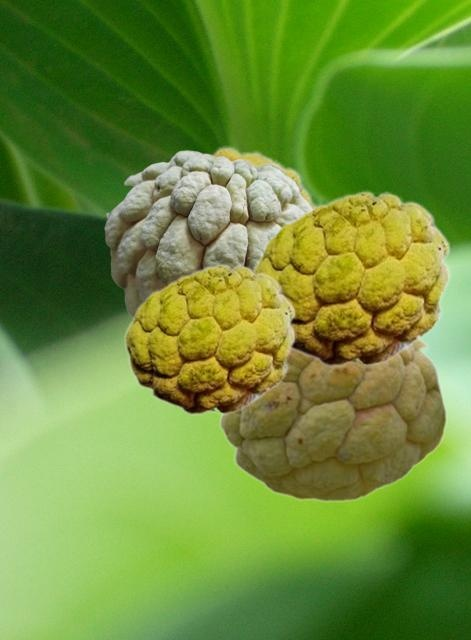atis: (218, 339, 446, 501), (251, 190, 450, 366), (104, 150, 311, 316), (123, 263, 295, 414), (200, 145, 317, 205)
